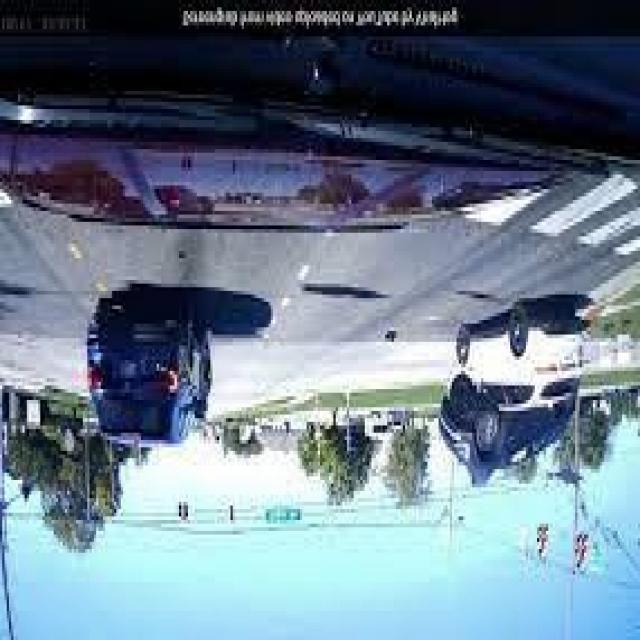severe: (438, 304, 590, 501)
